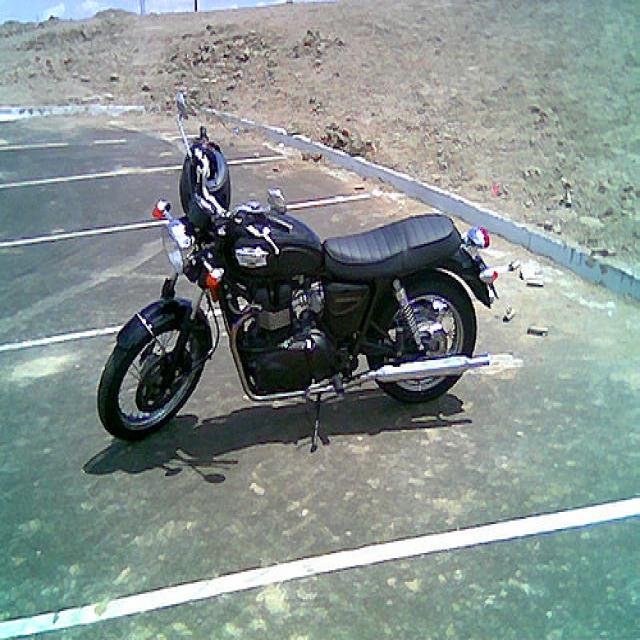motor: (92, 95, 500, 453)
